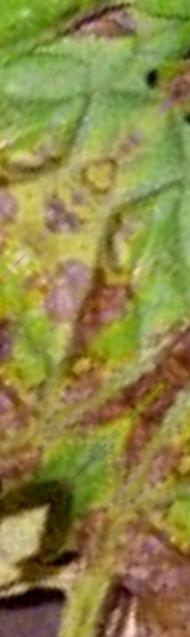Tomato Early blight leaf: (0, 22, 190, 561)
